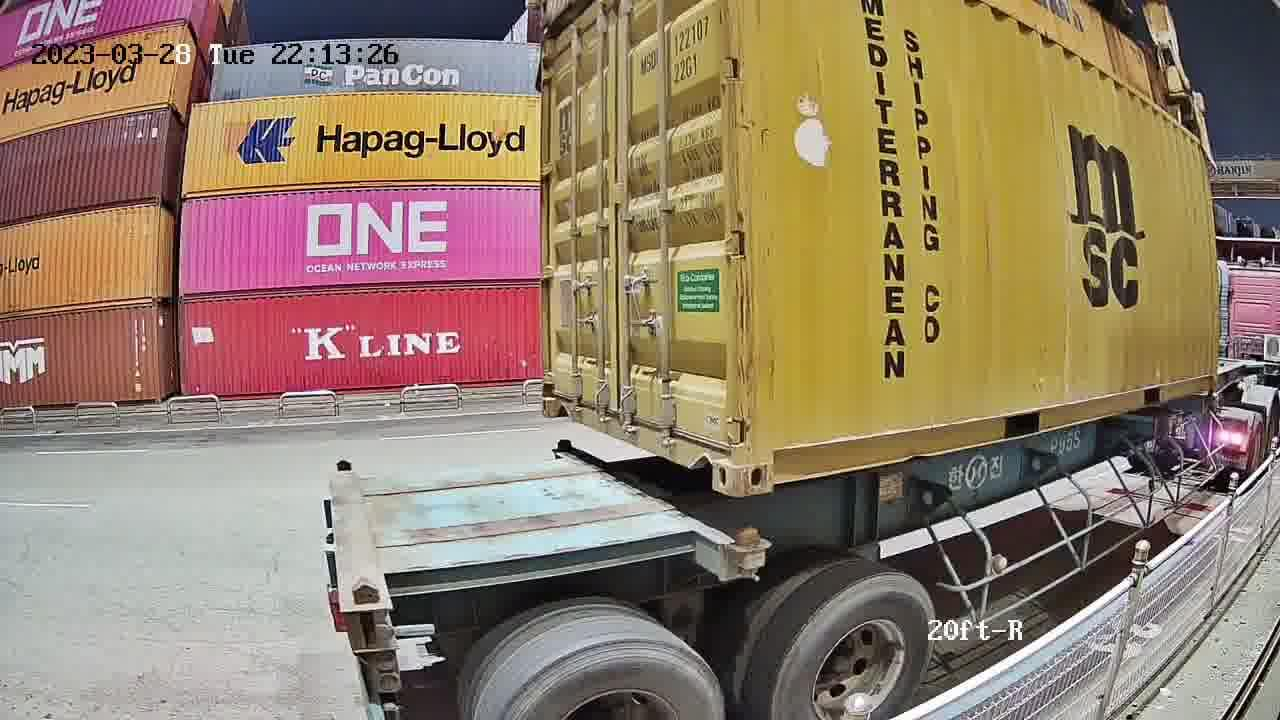Chassis: (554, 447, 762, 581)
Cone: (731, 526, 766, 582), (556, 437, 572, 451)
Hole_L: (736, 422, 800, 496), (541, 375, 578, 419)
Hole_R: (688, 416, 736, 497)
Tire: (772, 574, 936, 716), (501, 639, 723, 714)
